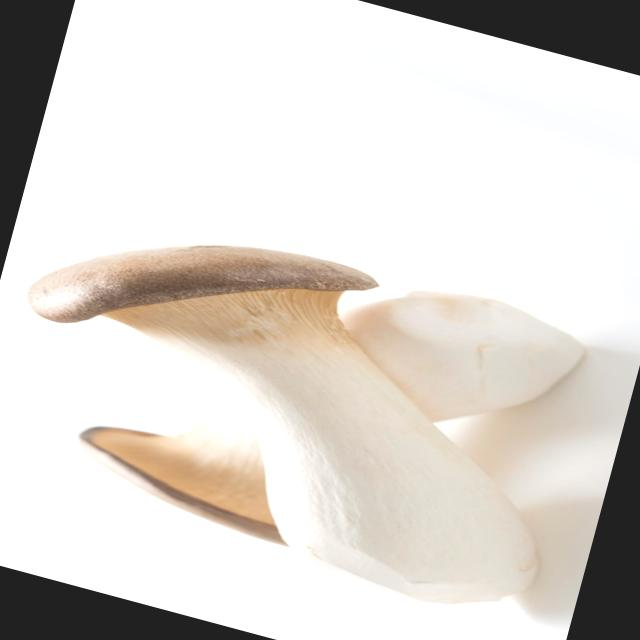Pleurotus eryngii: (0, 178, 601, 629)
